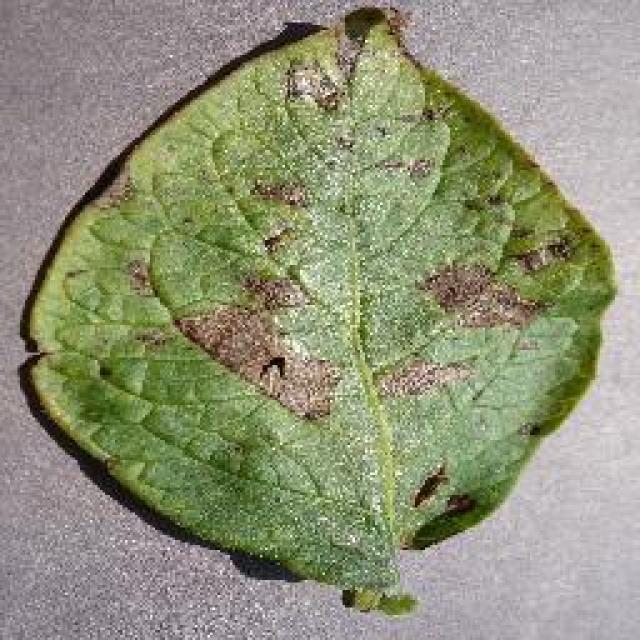early_blight: (18, 2, 620, 612)
